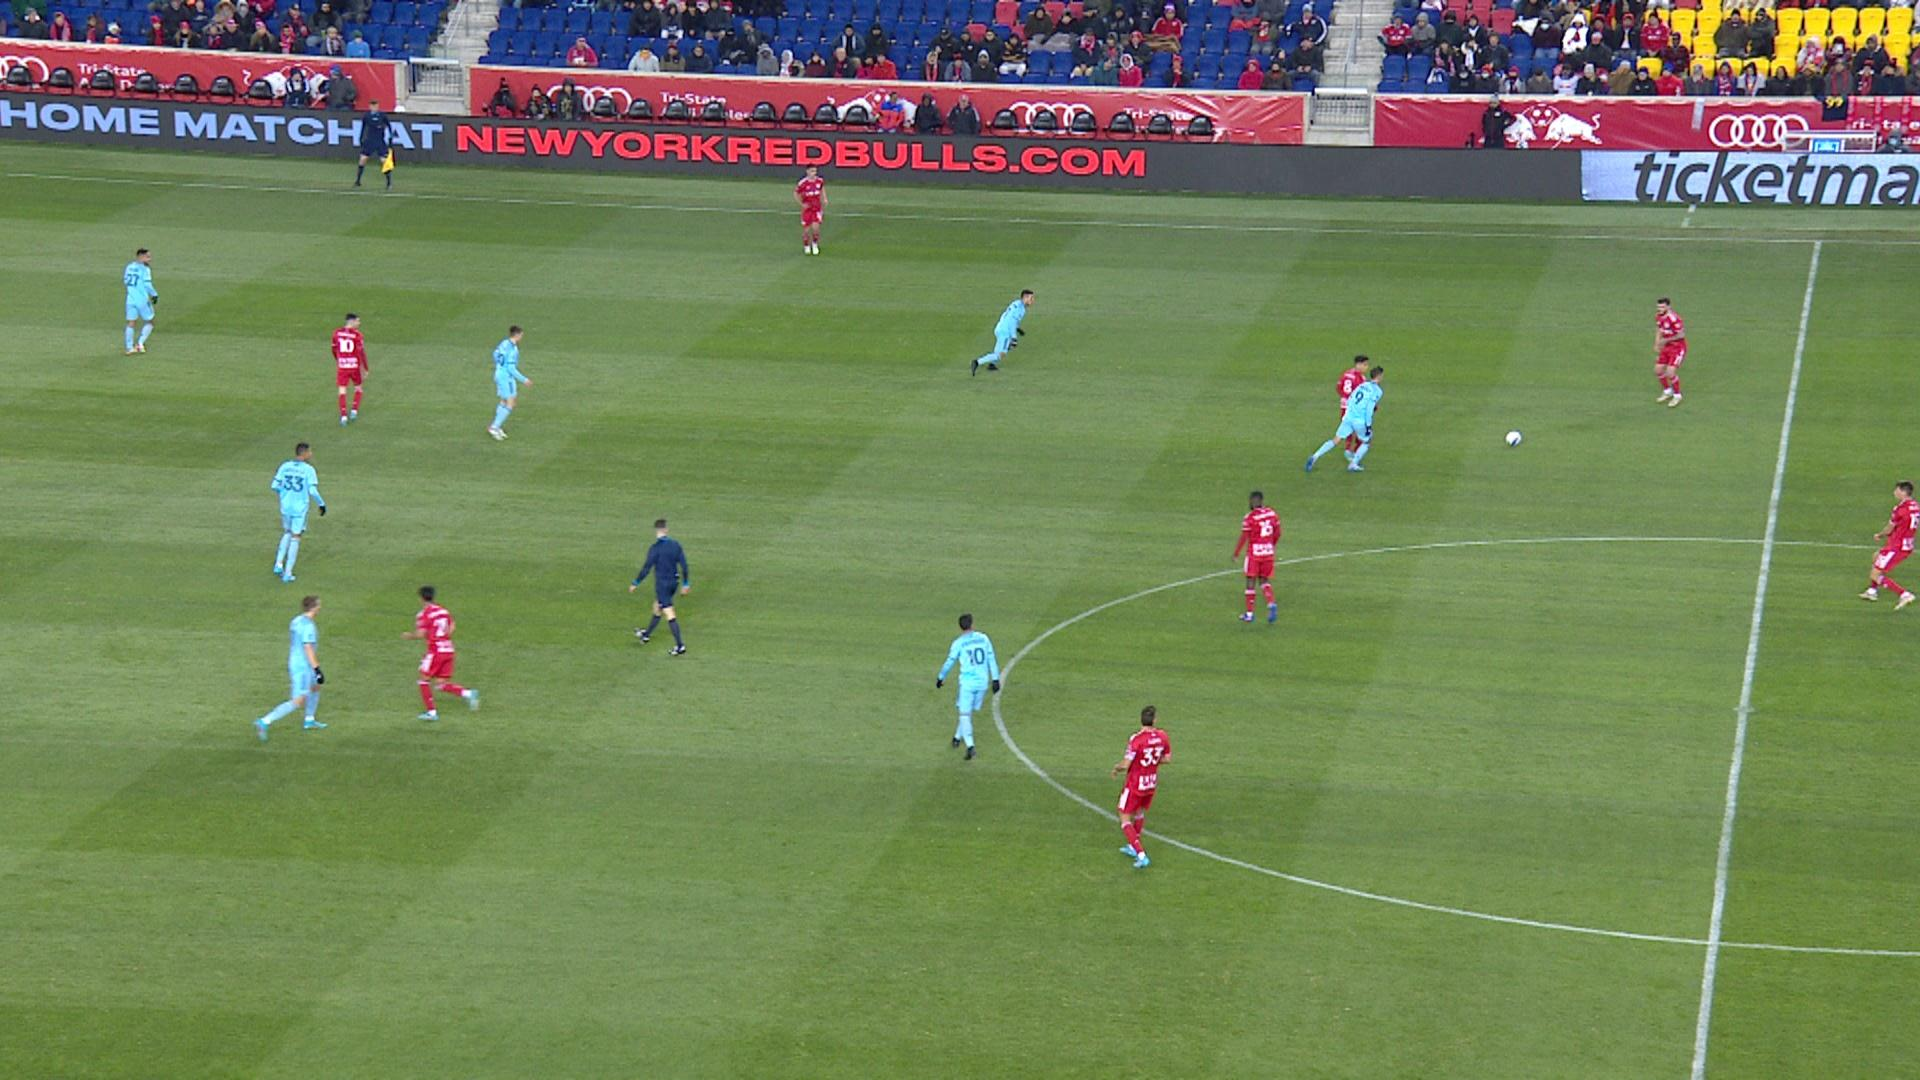football: (1505, 430, 1523, 448)
